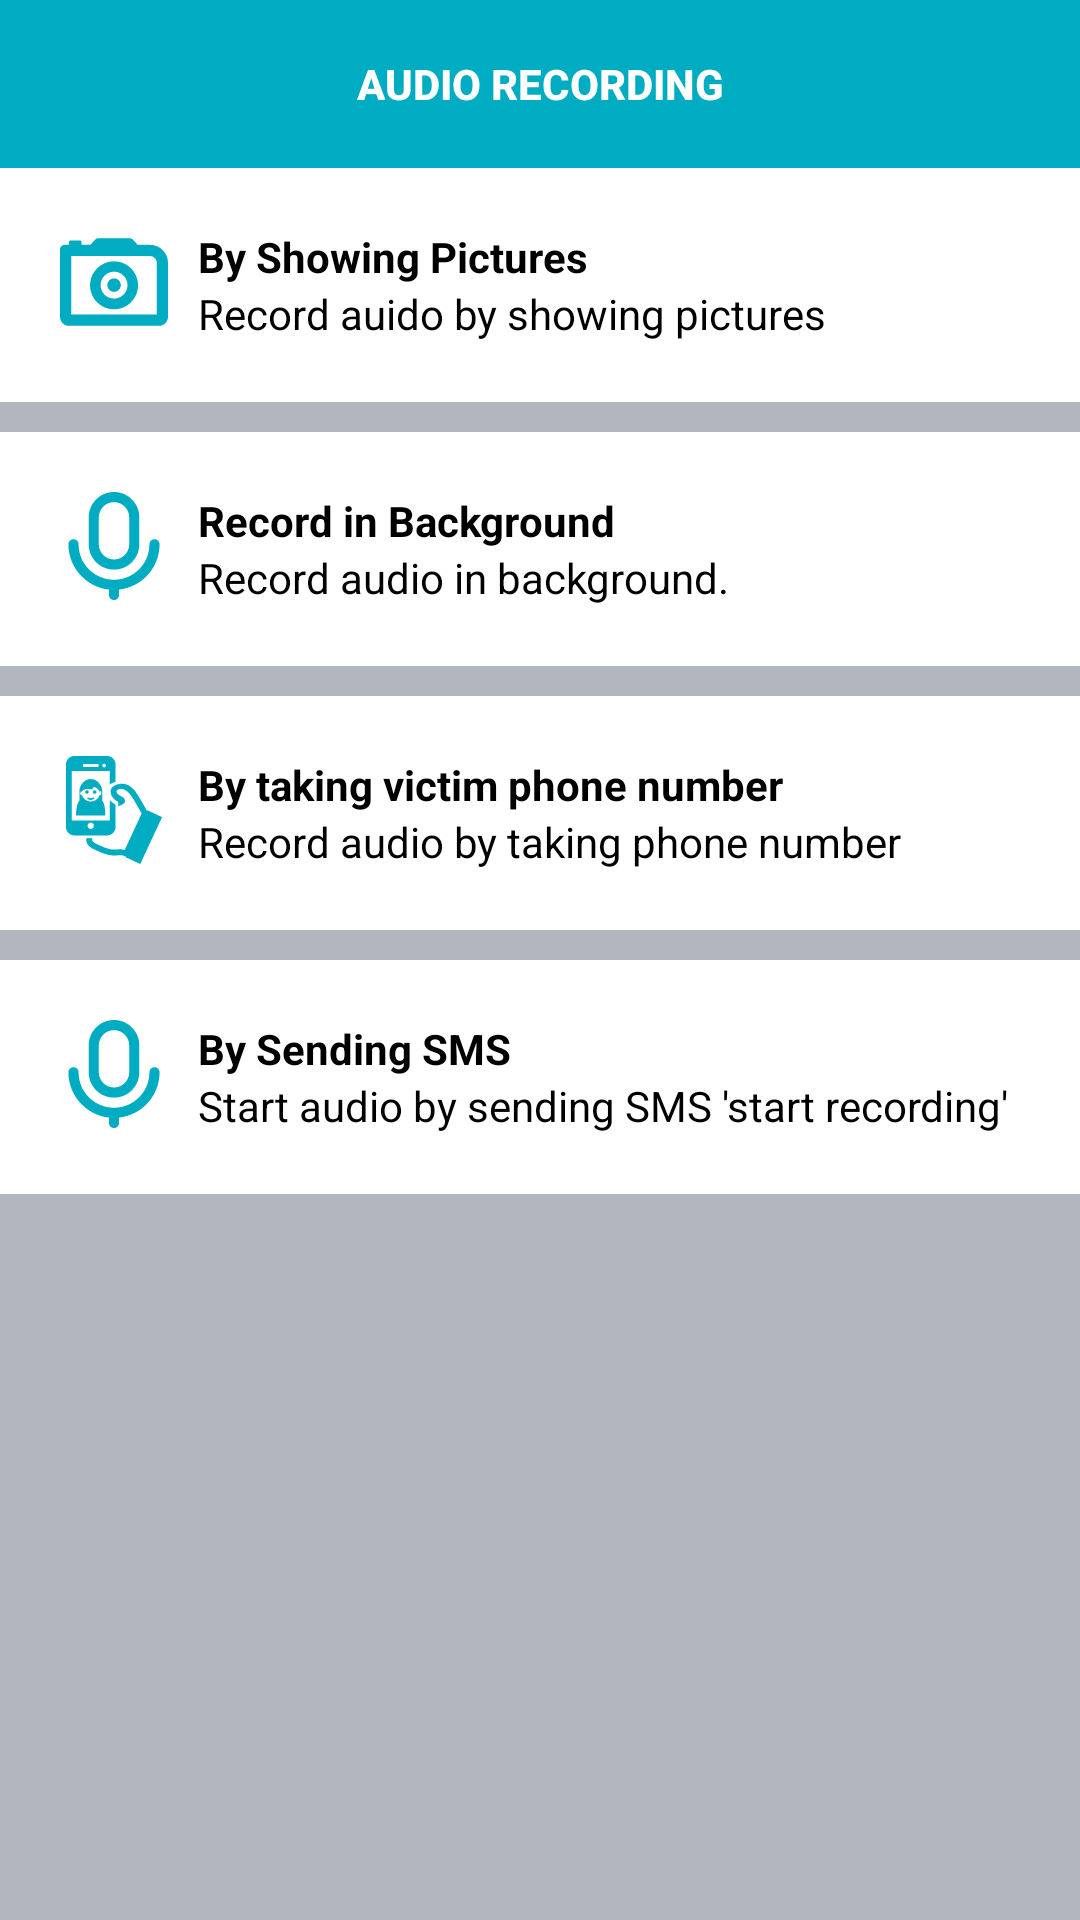

Screen size 1080*1920. Icon name, then its center in pixels as point (x, y):
camera: point (114, 282)
